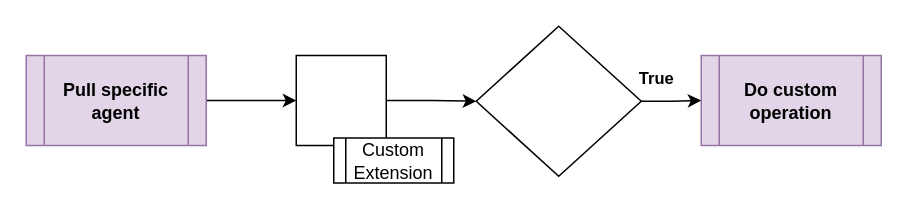
Image size: 908x210. Some labels were removed from this diagram. Each missing label, with the centre of its shape:
"Agent Data Model" belongs at (x=340, y=100).
"Has Custom Extension" belongs at (x=558, y=100).
